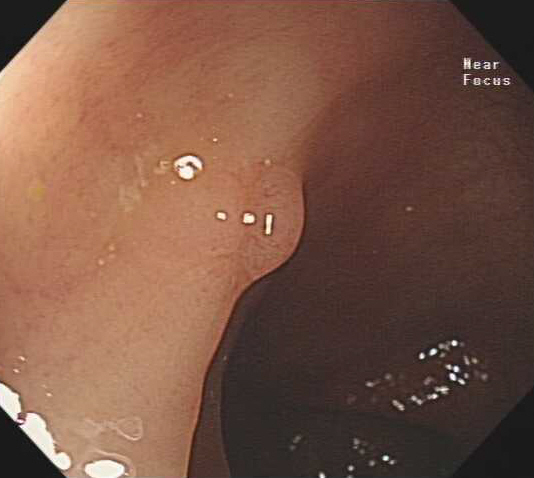adenoma: (237, 165, 307, 280)
